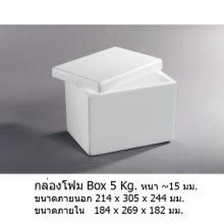foam_box: (42, 40, 184, 160)
